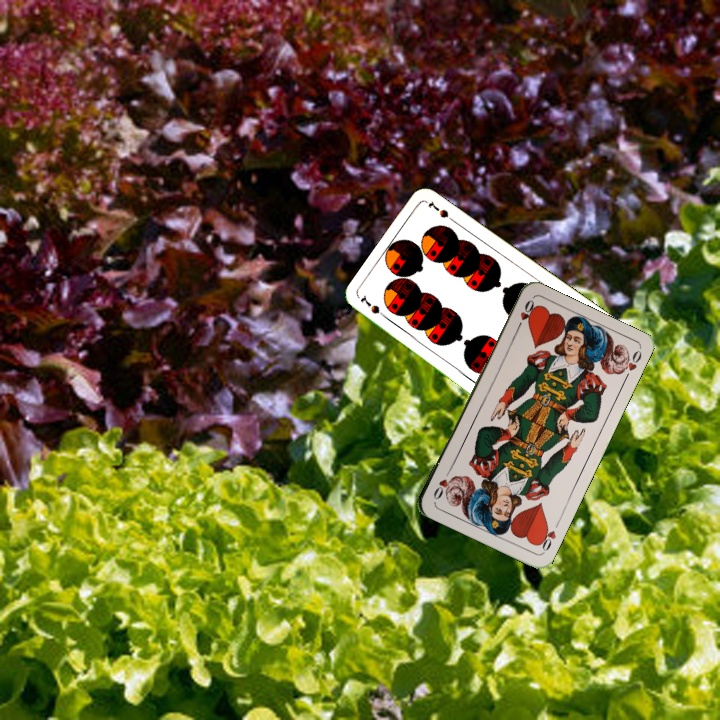HO: (534, 517, 562, 555), (513, 295, 537, 334)
S7: (356, 293, 392, 323)
